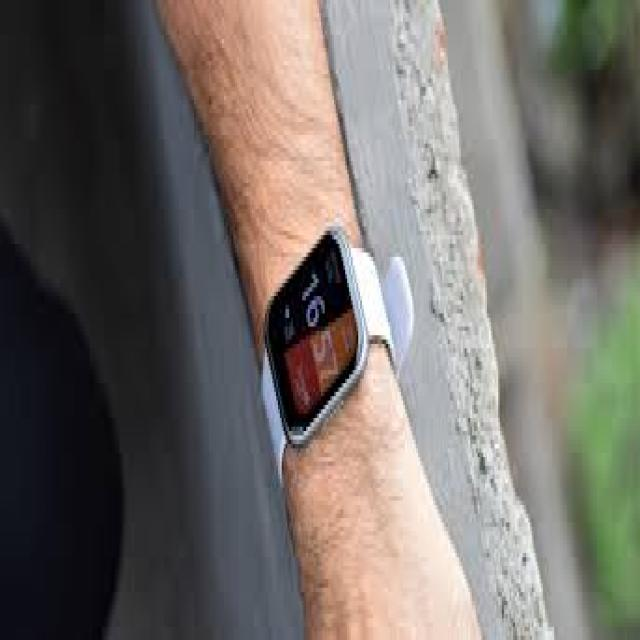objects: (254, 231, 370, 452)
